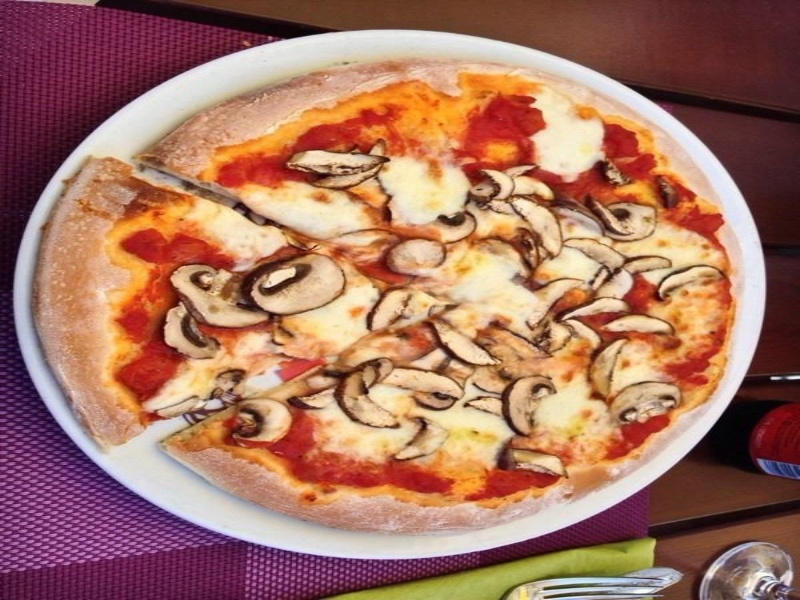champignon: (162, 258, 283, 331), (236, 251, 357, 314), (154, 299, 229, 365), (604, 376, 688, 428), (496, 371, 560, 437), (230, 395, 299, 448)
